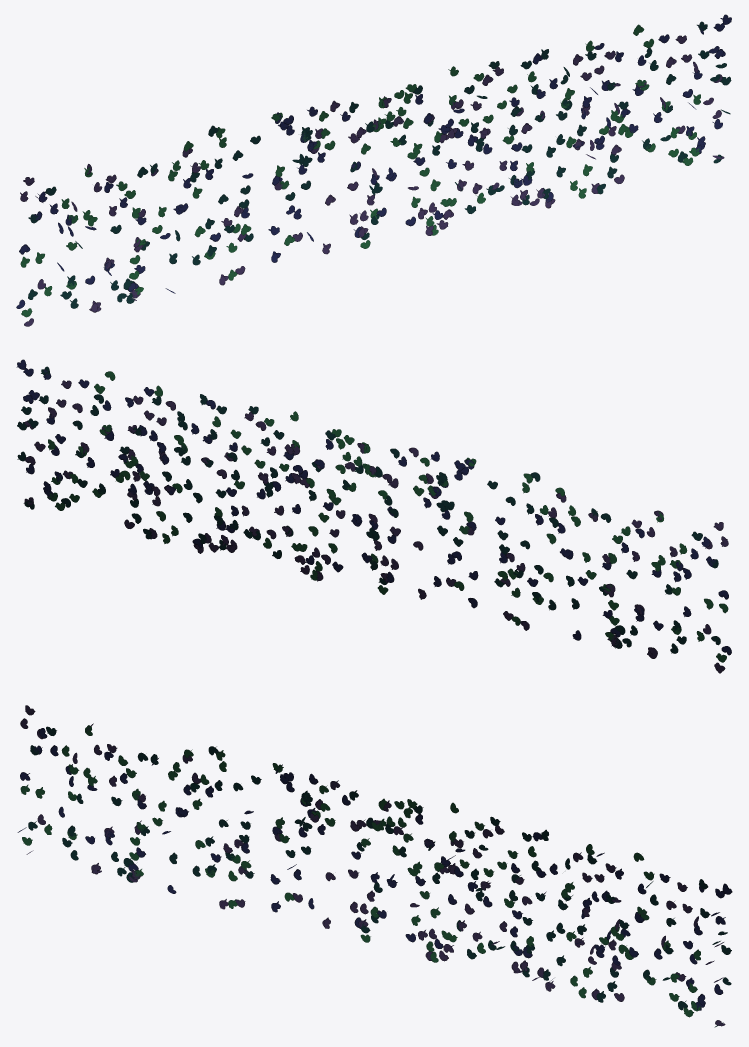
File: Ground_Bush_2.5.fbx
The picture shows the model from 3 angles, top to bottom: view 1: azimuth 30°, elevation 25°; view 2: azimuth 150°, elevation 25°; view 3: azimuth 330°, elevation 25°; orthographic projection.
Visible parts, largest first — view 1: Ground_Bush_2.5; view 2: Ground_Bush_2.5; view 3: Ground_Bush_2.5.
Part boxes in pixels (x1=…): Ground_Bush_2.5: x1=16, y1=14, x2=731, y2=326; Ground_Bush_2.5: x1=16, y1=359, x2=731, y2=673; Ground_Bush_2.5: x1=17, y1=705, x2=732, y2=1027.
Bounding box in the file's own units: 24.39 × 0.367 × 5.49.
